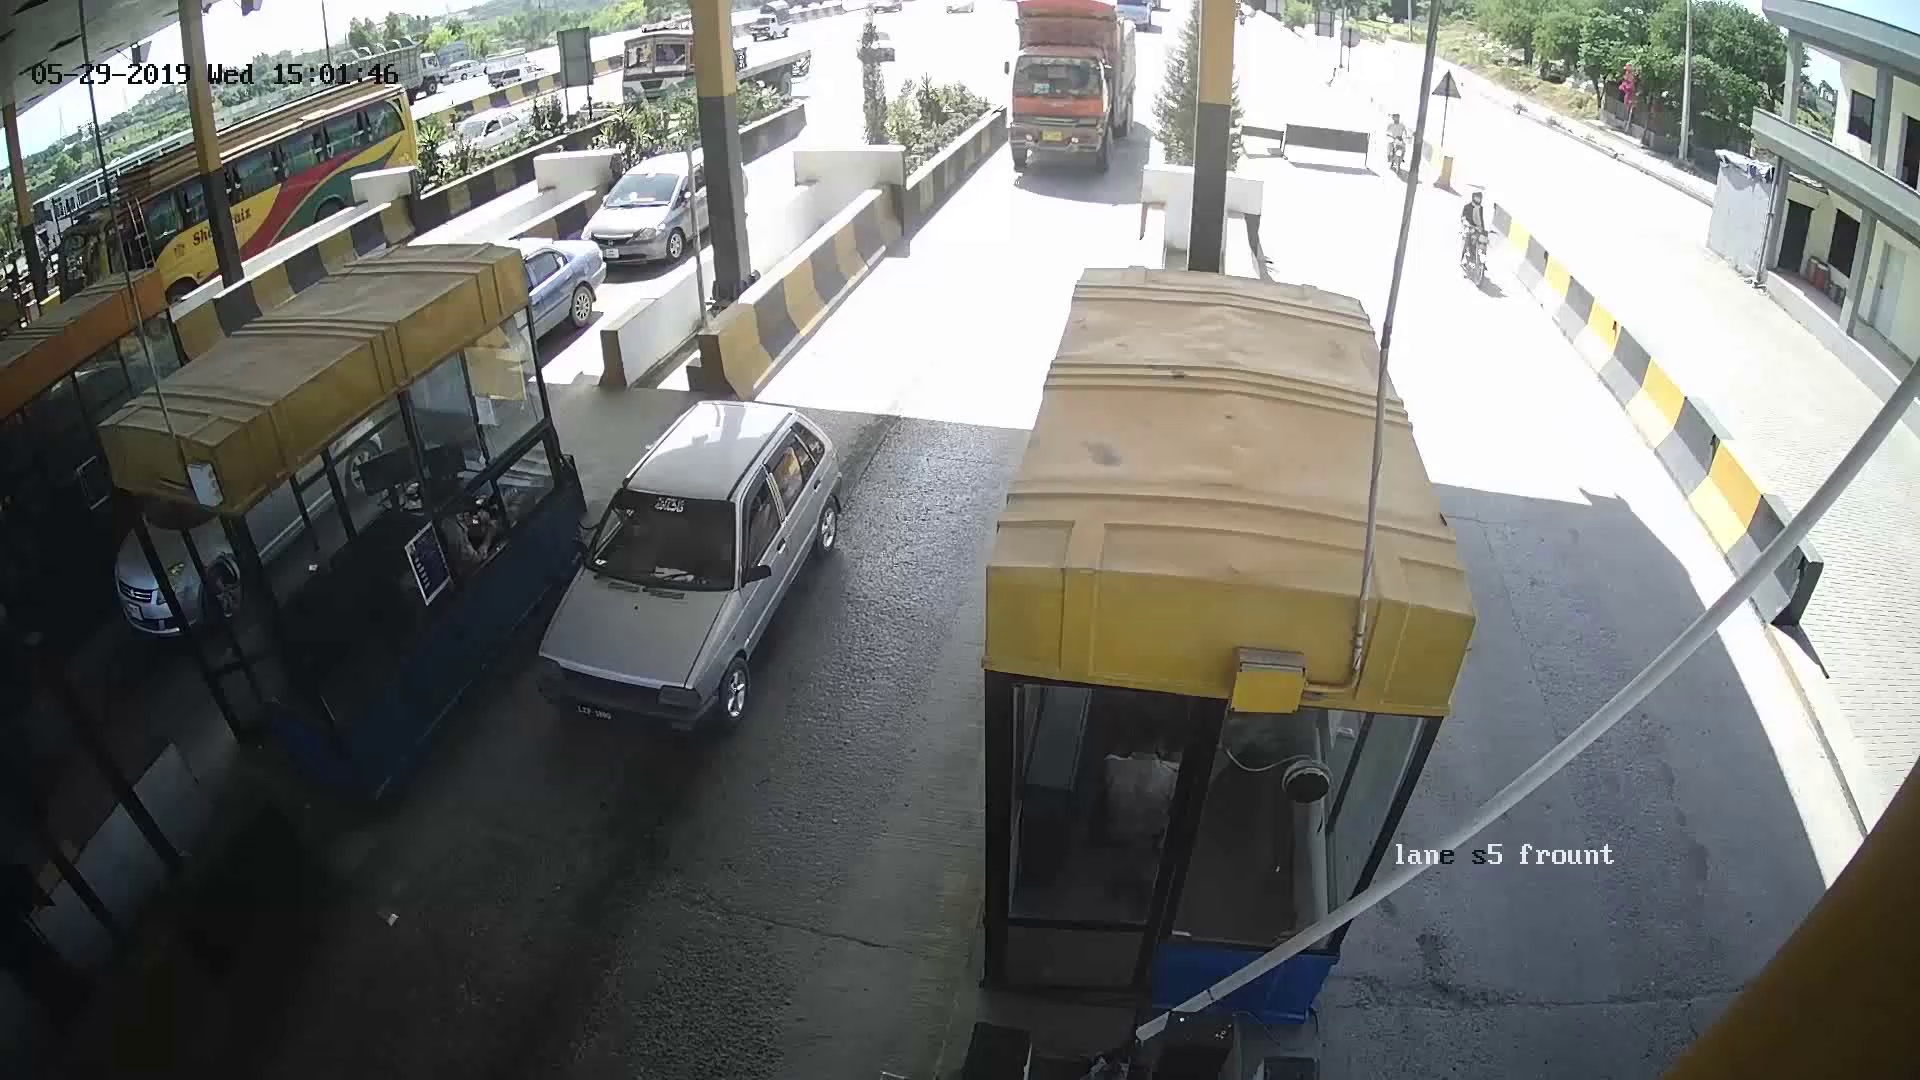car: (558, 425, 832, 729)
truck: (986, 29, 1142, 196)
